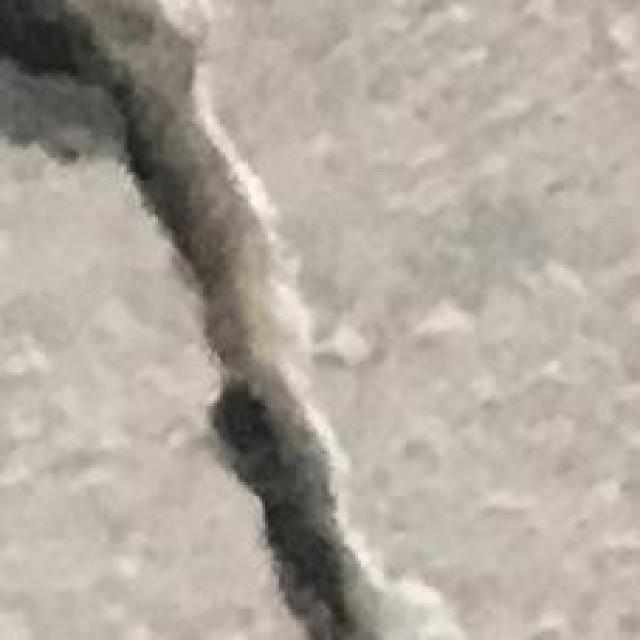Crack: (11, 5, 451, 640)
